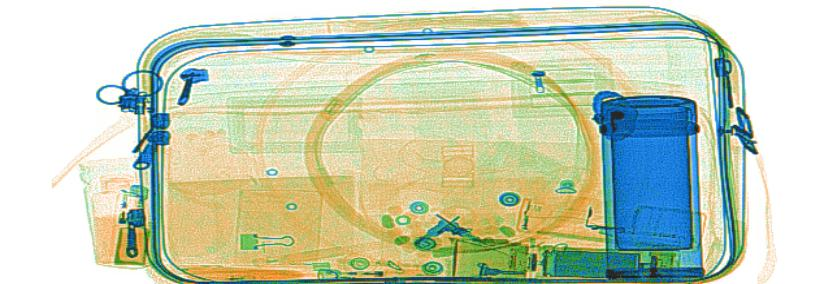battery: (541, 246, 643, 278)
lighter: (111, 181, 149, 268), (317, 264, 420, 283)
